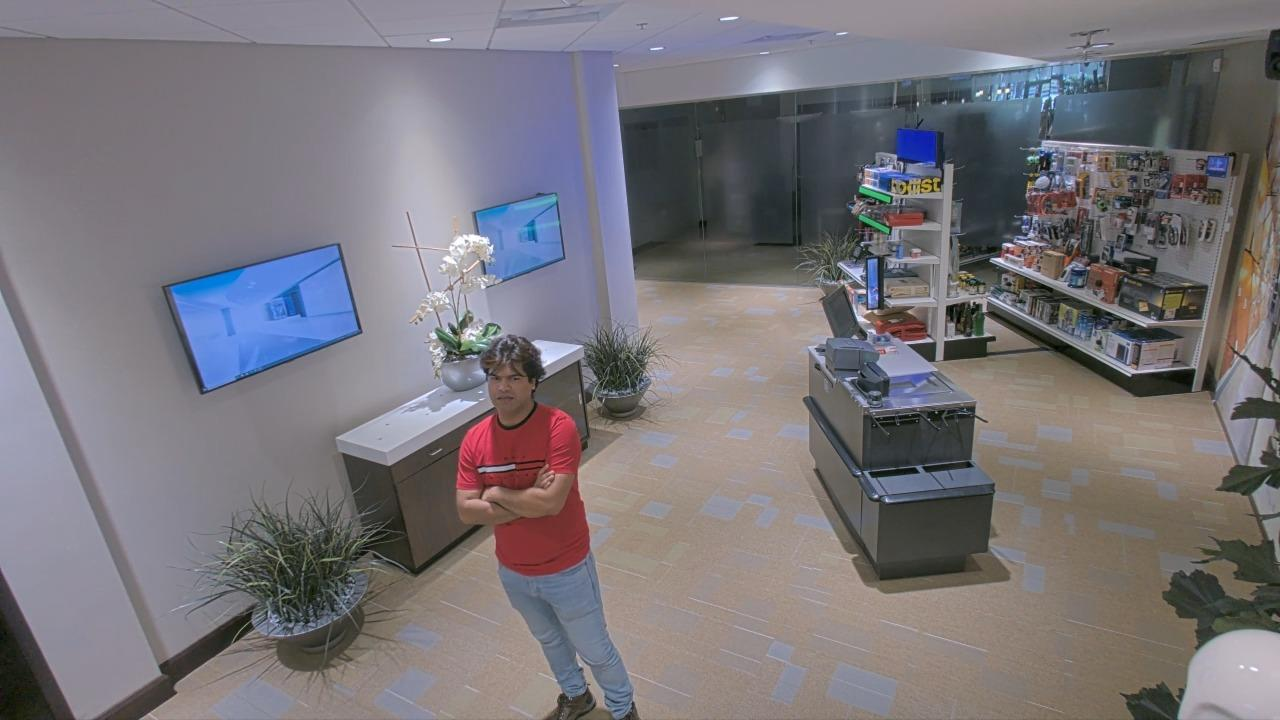normal: (448, 339, 649, 720)
